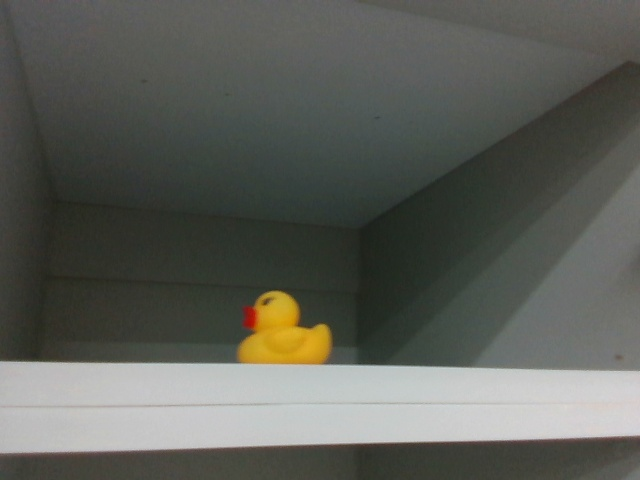duck: (232, 282, 338, 366)
